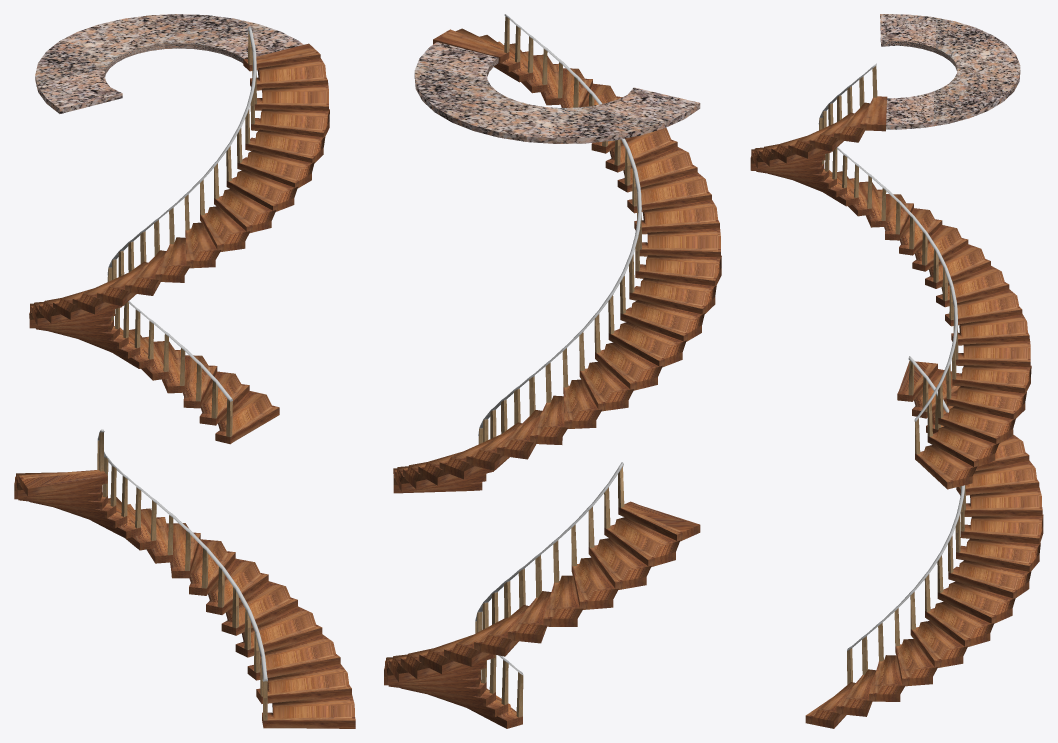
File: stairs.gltf
3 views of the same model, side by side, from view 1: azimuth 30°, elevation 25°; view 2: azimuth 150°, elevation 25°; view 3: azimuth 270°, elevation 25° (orthographic). The views are drawn at different scales.
Visible parts, largest first — view 1: stairs.001, stairs, granite floor; view 2: stairs.001, stairs, granite floor; view 3: stairs.001, stairs, granite floor.
Boxes of the visible parts, left/top/right/bottom form: stairs.001: left=29, top=26, right=329, bottom=444; stairs: left=14, top=429, right=355, bottom=728; granite floor: left=35, top=14, right=303, bottom=113; stairs.001: left=393, top=14, right=721, bottom=493; stairs: left=384, top=462, right=700, bottom=728; granite floor: left=414, top=42, right=700, bottom=143; stairs.001: left=750, top=63, right=1031, bottom=489; stairs: left=805, top=356, right=1043, bottom=728; granite floor: left=880, top=14, right=1020, bottom=129.
Size of the model in its own units: 2.32 by 5.24 by 2.21.
